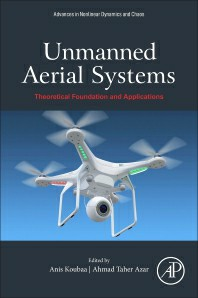maybay_khongnguoilai: (23, 109, 170, 226)
